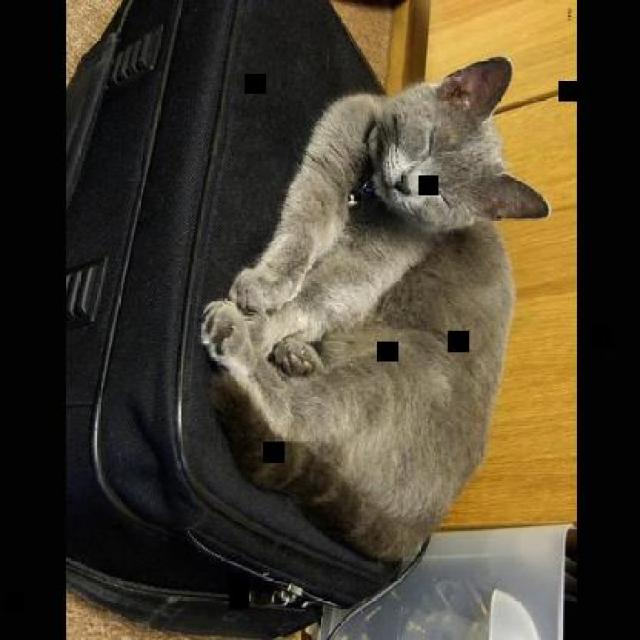unauthorized: (198, 53, 550, 564)
